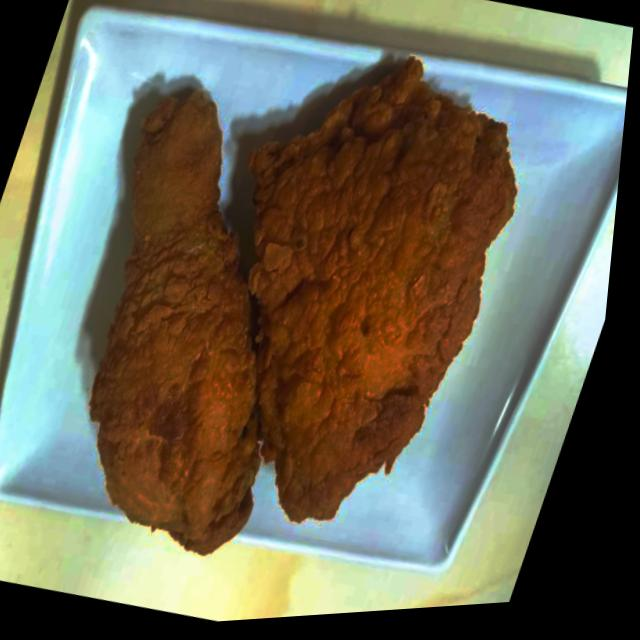fried_chicken: (129, 30, 556, 593), (0, 62, 391, 580)
